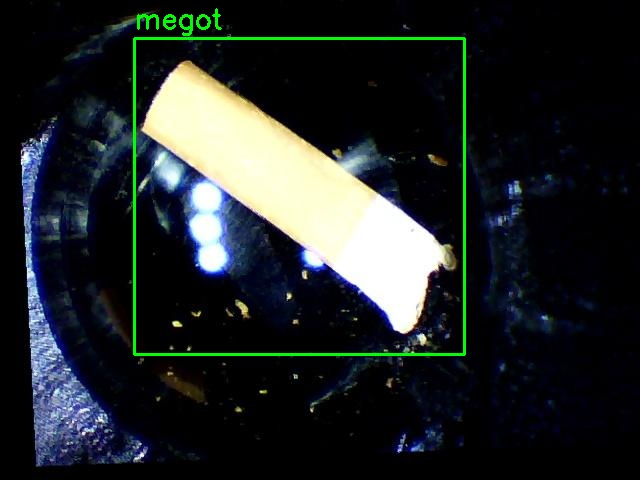megot: (134, 38, 464, 354)
